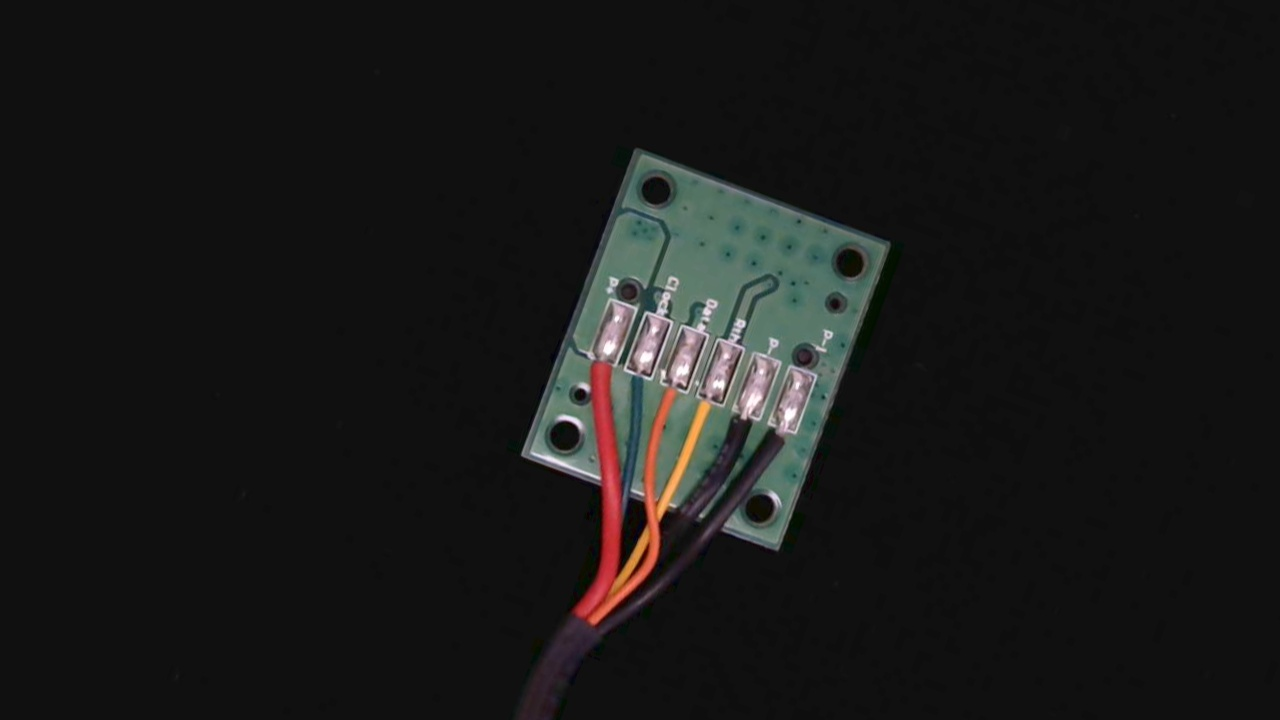Black: (710, 392, 767, 472)
Black1: (754, 408, 805, 483)
Green: (610, 353, 657, 420)
Orange: (641, 366, 695, 445)
Red: (571, 340, 623, 414)
Yellow: (672, 379, 729, 460)
